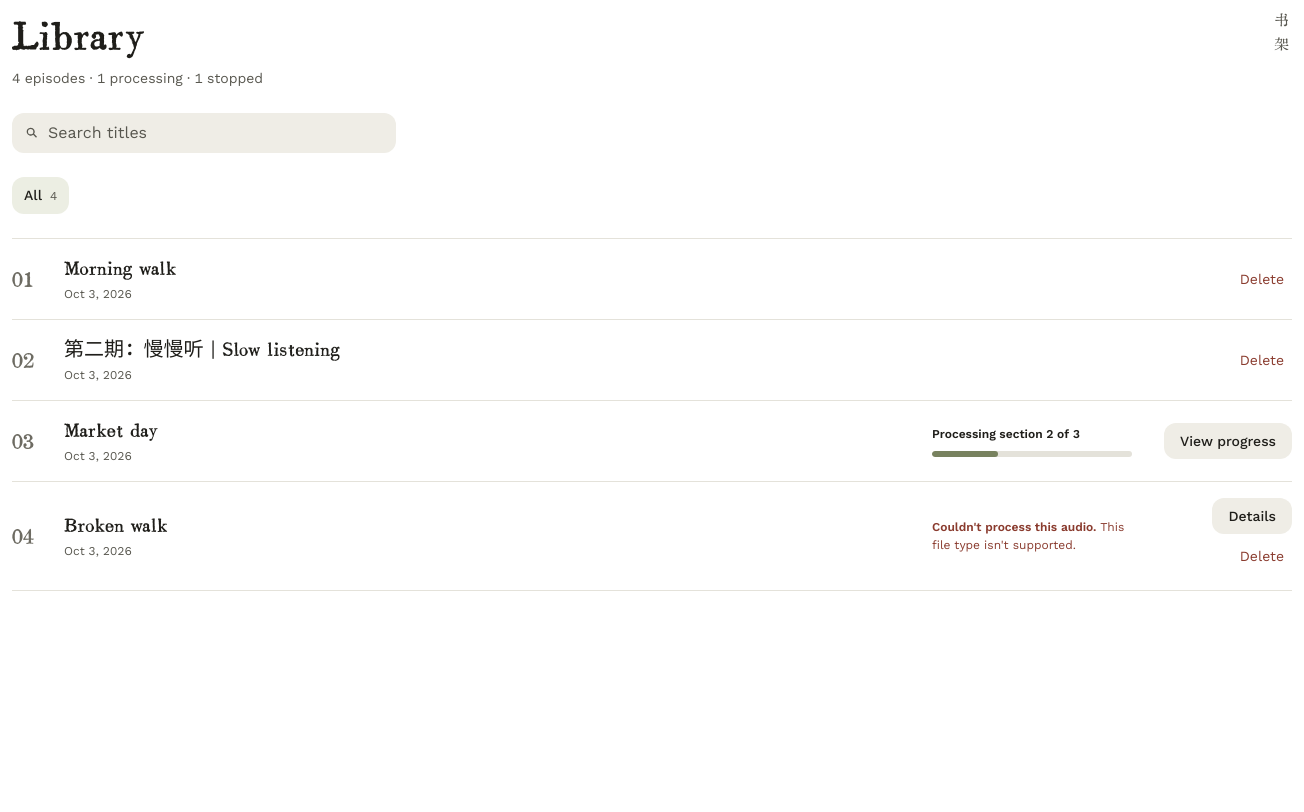
Scenario: LocalLibraryPage — local transcription (FunASR) › title search › matches titles only, including processing and failed rows
This screenshot has width=1304, height=812.
Type "WALK" into the search field named "Search episodes" at (204, 133), box [12,113,396,153]
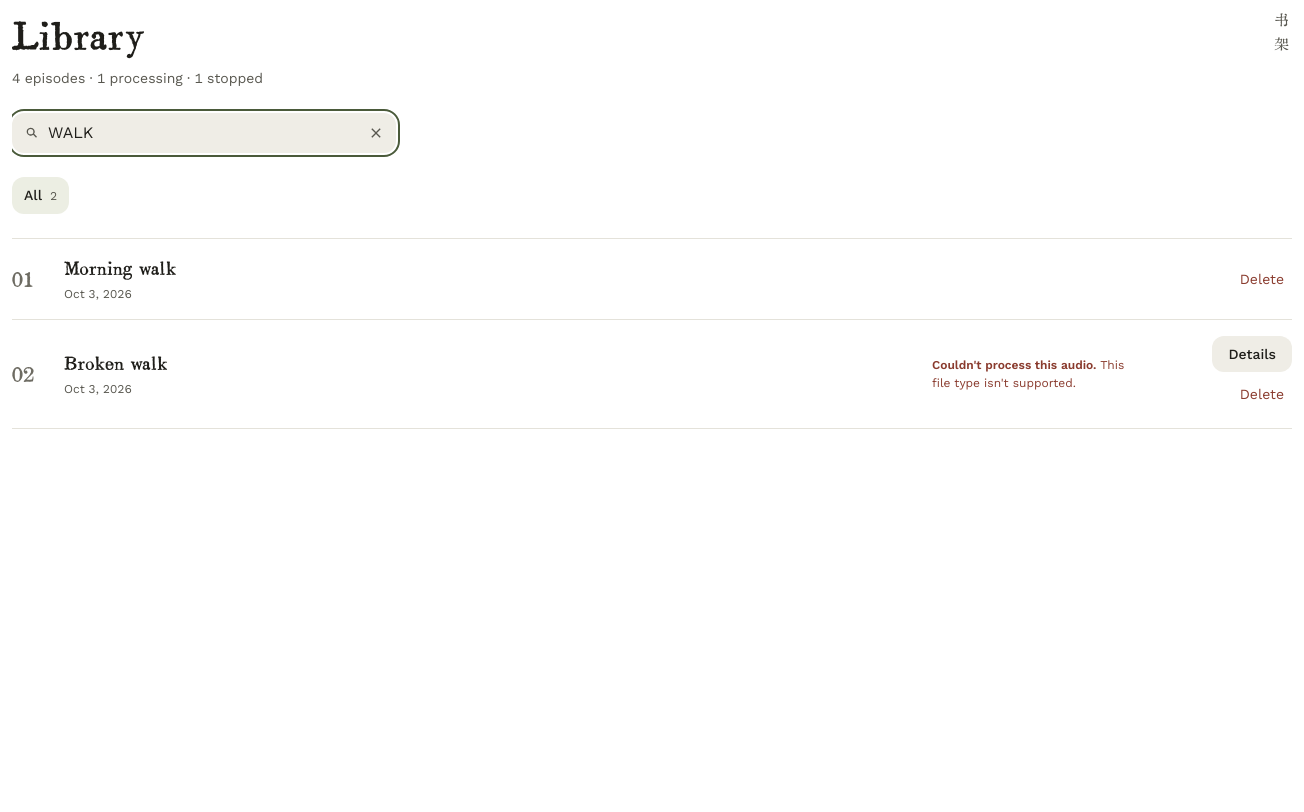
Expected: the list item that starts with "Broken walk" is shown, [64,353,168,373]
Replace the text in the search field named "Search episodes" with "ep-aaaa" at (204, 133), box [12,113,396,153]
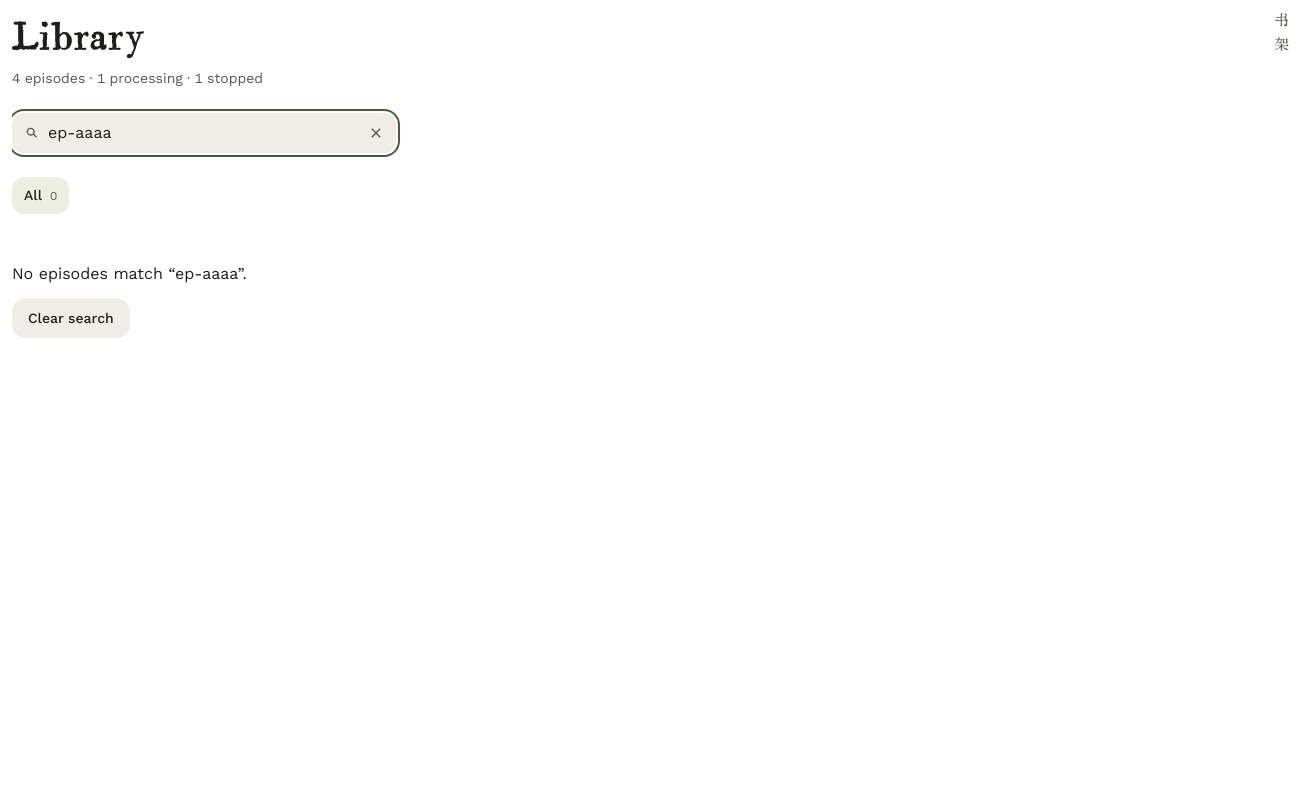
Expected: the text "No episodes match “ep-aaaa”." is shown, [12,262,247,286]
